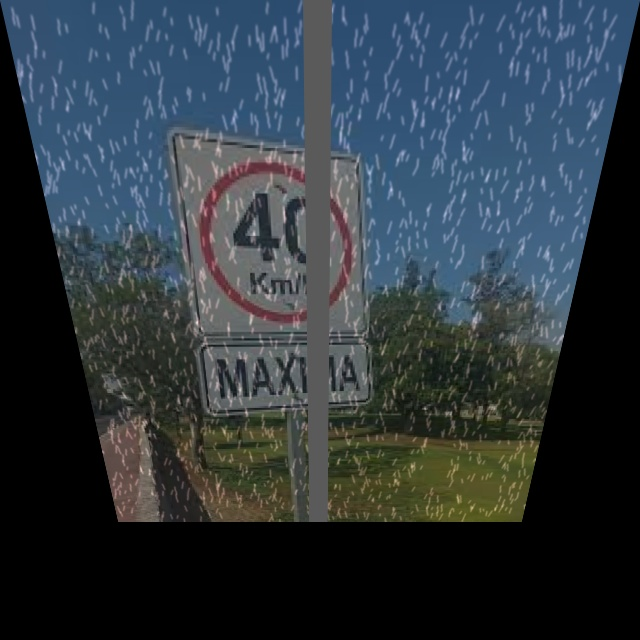Speed_Limit_40: (185, 146, 369, 332)
